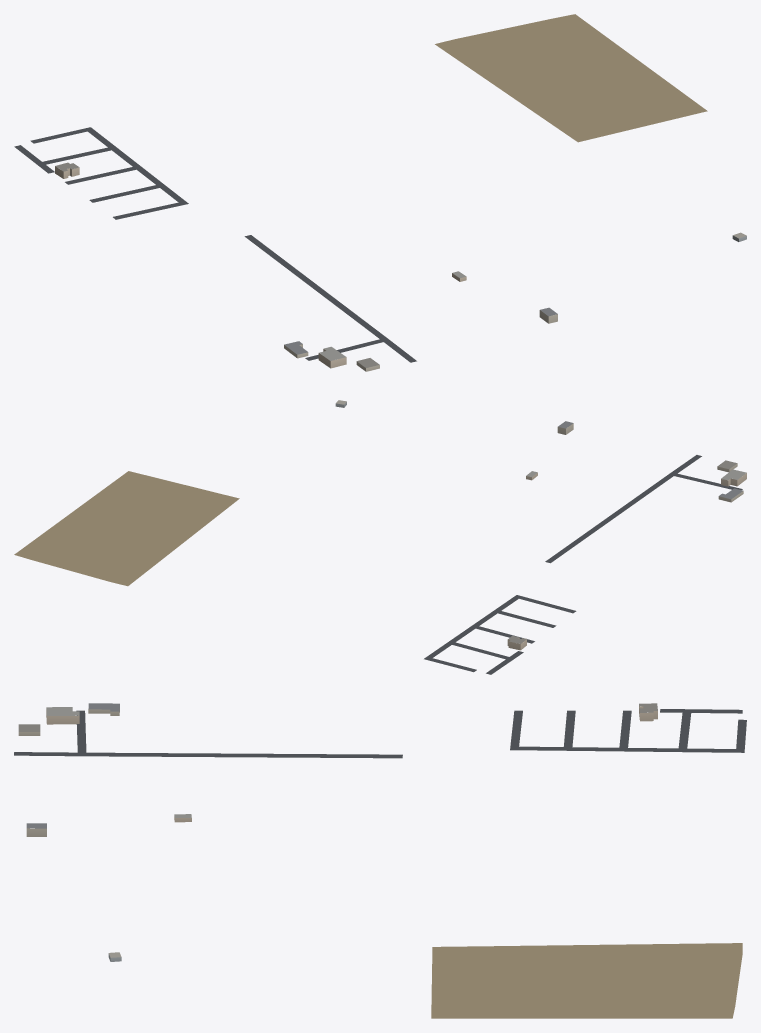
3 renders of one model, top to bottom at view 1: azimuth 30°, elevation 25°; view 2: azimuth 150°, elevation 25°; view 3: azimuth 270°, elevation 25°, orthographic. The views are drawn at different scales.
Parts seen in each view (by area): view 1: landuse, roads, buildings_walls, buildings_roofs; view 2: landuse, roads, buildings_walls, buildings_roofs; view 3: landuse, roads, buildings_roofs, buildings_walls.
Boxes of the visible parts, x1=… form: landuse: x1=435, y1=14, x2=707, y2=142; roads: x1=14, y1=127, x2=416, y2=362; buildings_walls: x1=55, y1=166, x2=746, y2=371; buildings_roofs: x1=55, y1=162, x2=746, y2=367; landuse: x1=14, y1=471, x2=239, y2=586; roads: x1=424, y1=455, x2=742, y2=674; buildings_walls: x1=335, y1=402, x2=746, y2=650; buildings_roofs: x1=336, y1=400, x2=746, y2=643; landuse: x1=431, y1=943, x2=742, y2=1018; roads: x1=14, y1=709, x2=746, y2=758; buildings_roofs: x1=18, y1=703, x2=657, y2=957; buildings_walls: x1=18, y1=705, x2=657, y2=961.
Size of the model in its own units: 505 by 6.4 by 503.
